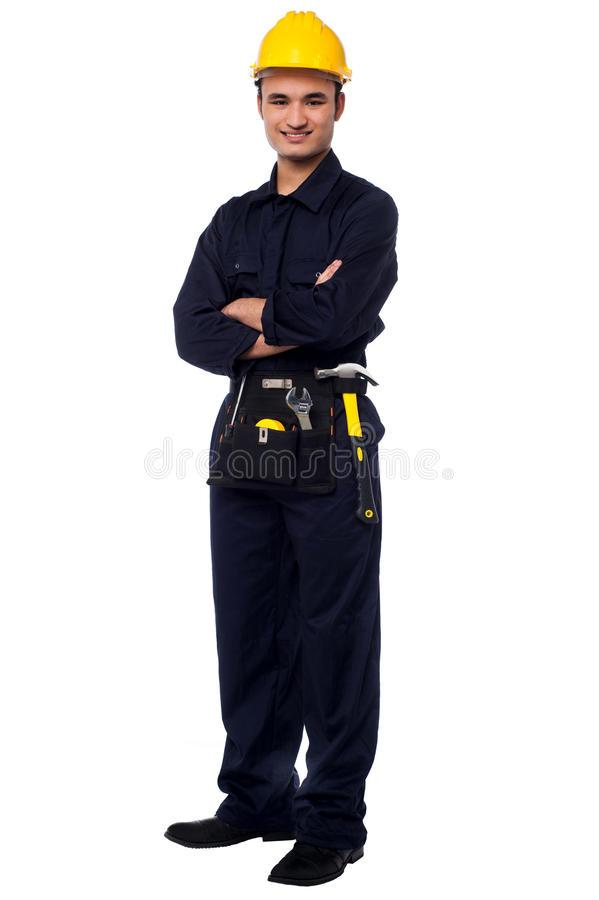helmet: (254, 12, 353, 85)
